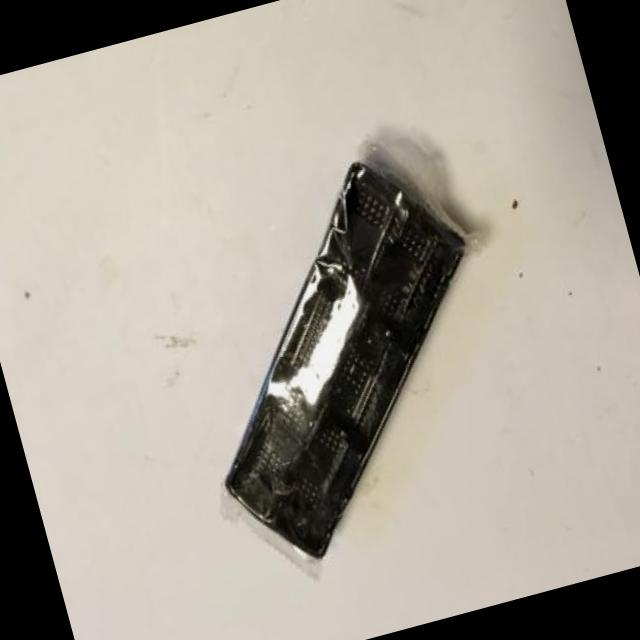Trash: (157, 135, 548, 595)
